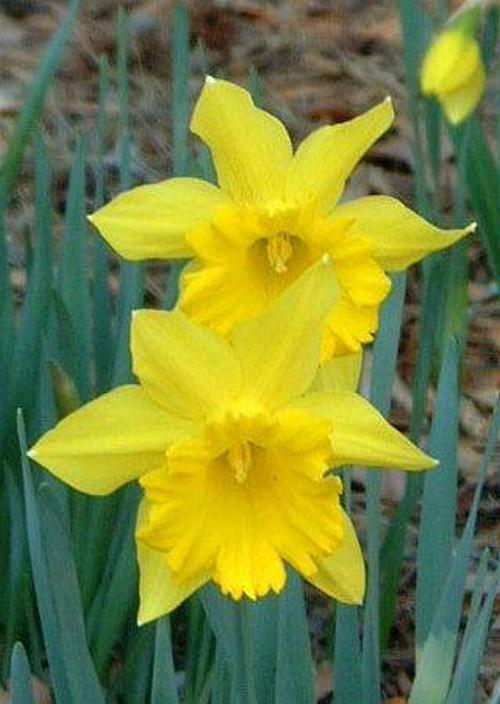flower1: (27, 53, 478, 628)
